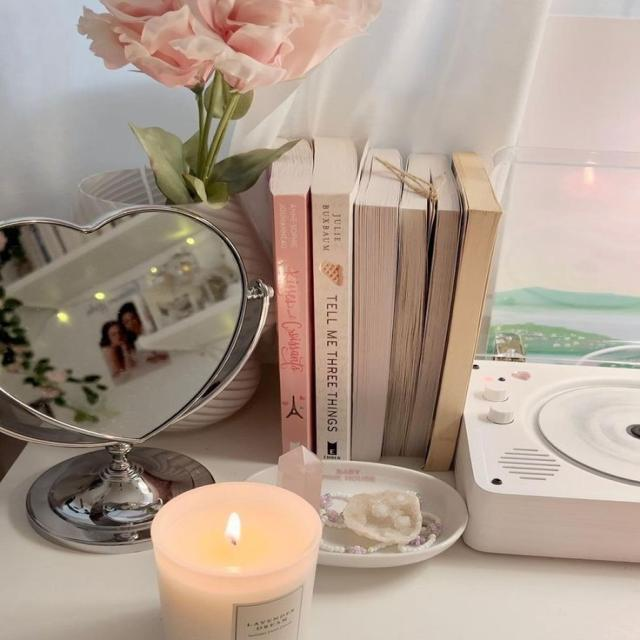book: (313, 196, 352, 460), (273, 195, 310, 450)
candle: (151, 482, 321, 639)
flowers: (78, 0, 381, 206)
